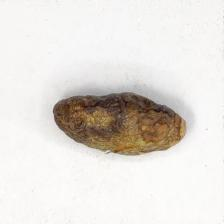NG: (52, 93, 187, 156)
